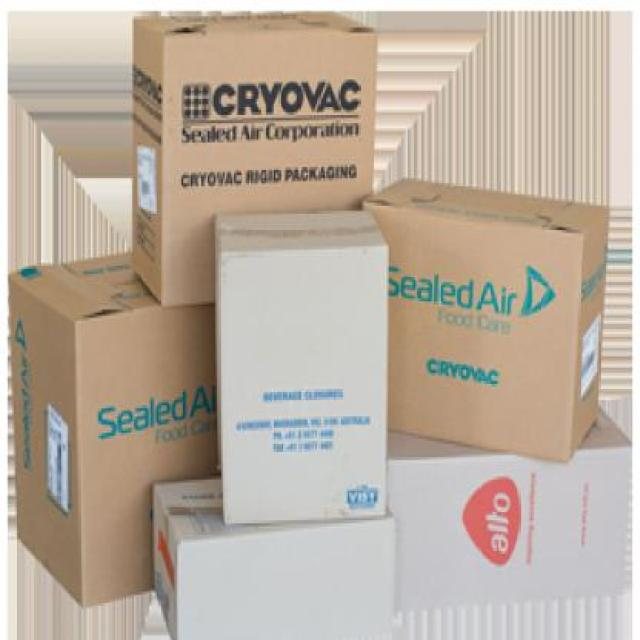box: (127, 3, 379, 336), (365, 174, 618, 466), (8, 256, 212, 616), (215, 215, 392, 529), (383, 412, 634, 615), (154, 487, 403, 640)
